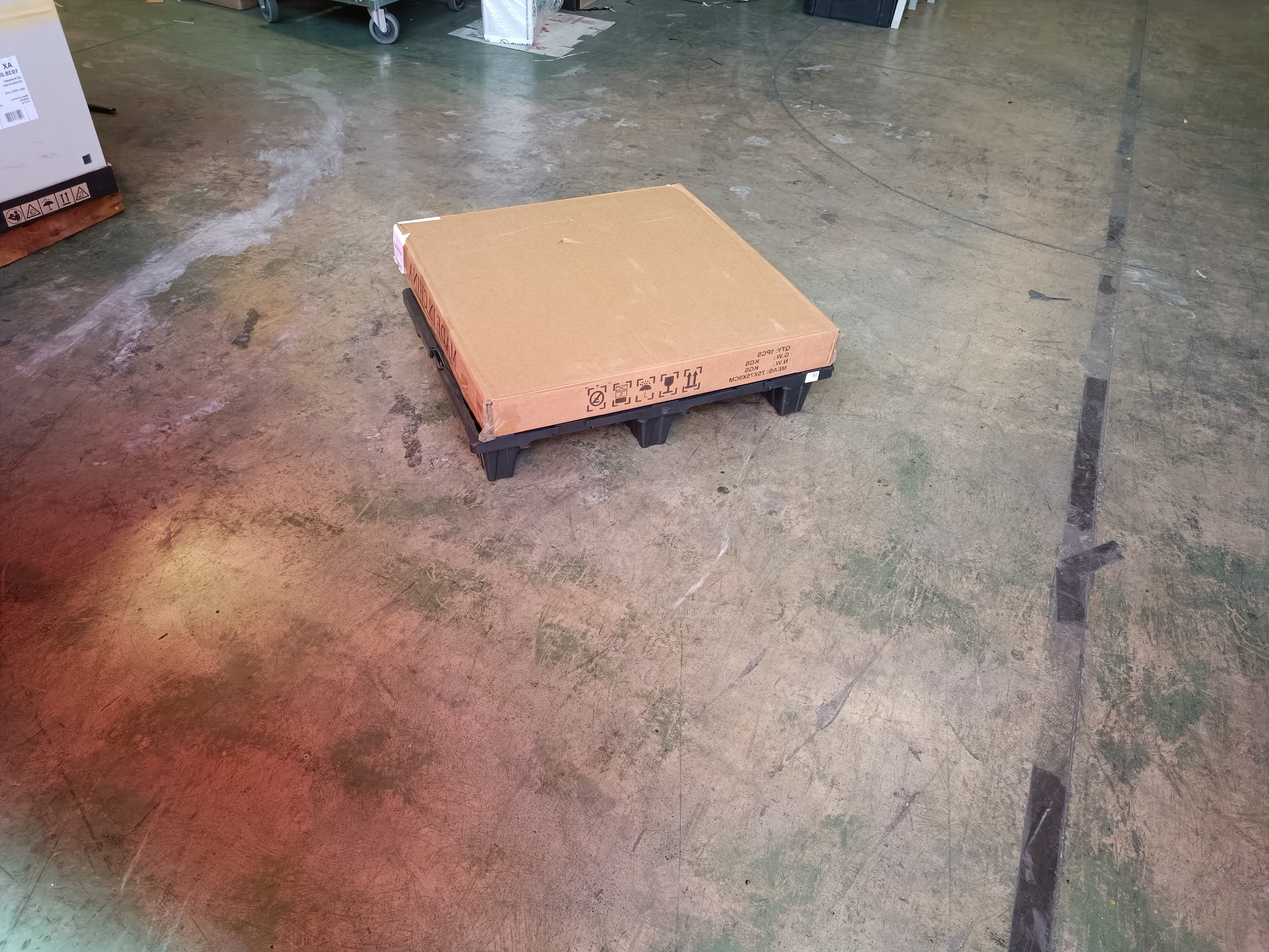block: (479, 436, 523, 494), (628, 406, 680, 449), (768, 376, 813, 423)
front: (467, 369, 831, 503)
hole pallet: (513, 414, 645, 489), (666, 390, 782, 448)
